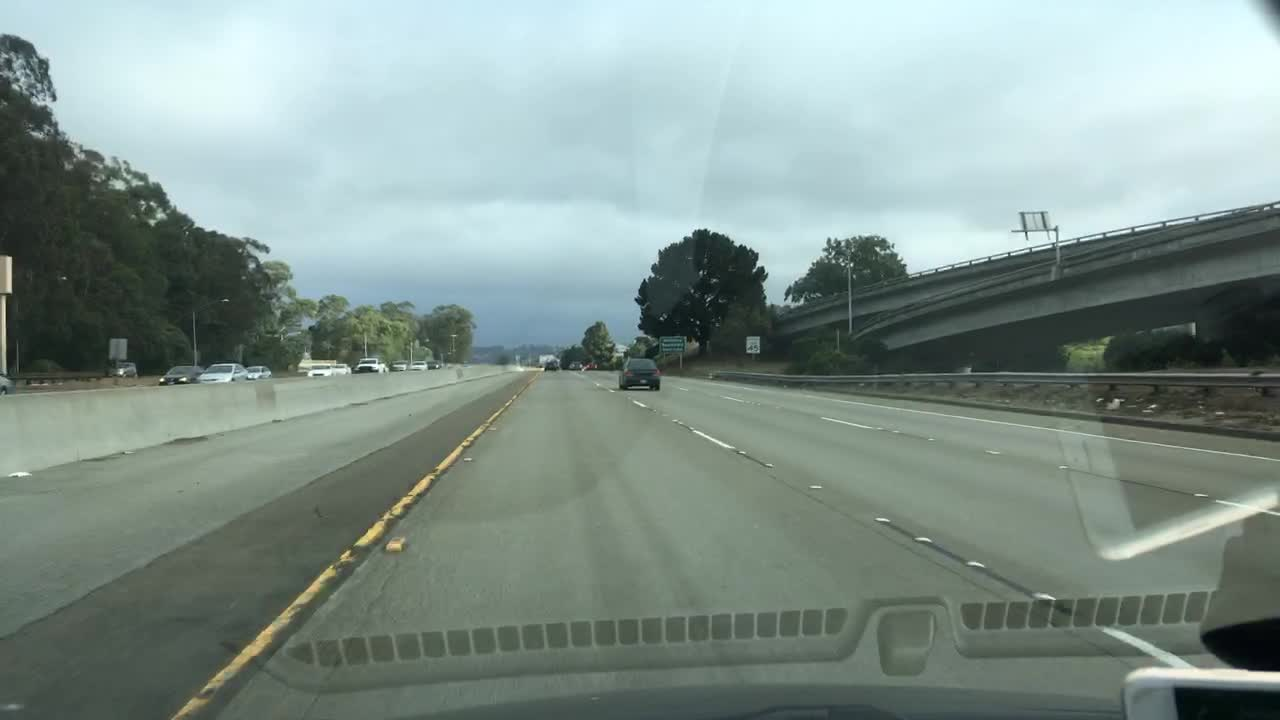car: (613, 356, 661, 390), (195, 362, 250, 383), (158, 364, 206, 384), (350, 356, 383, 371), (105, 362, 137, 377), (0, 371, 19, 392), (246, 364, 271, 379), (375, 360, 394, 373), (390, 360, 411, 371), (306, 364, 331, 373), (567, 360, 586, 371), (545, 360, 564, 371), (426, 358, 444, 369), (409, 360, 428, 369), (331, 362, 350, 371)
traffic sign: (1016, 211, 1051, 230), (657, 335, 687, 352), (108, 337, 127, 358), (746, 337, 761, 350)
